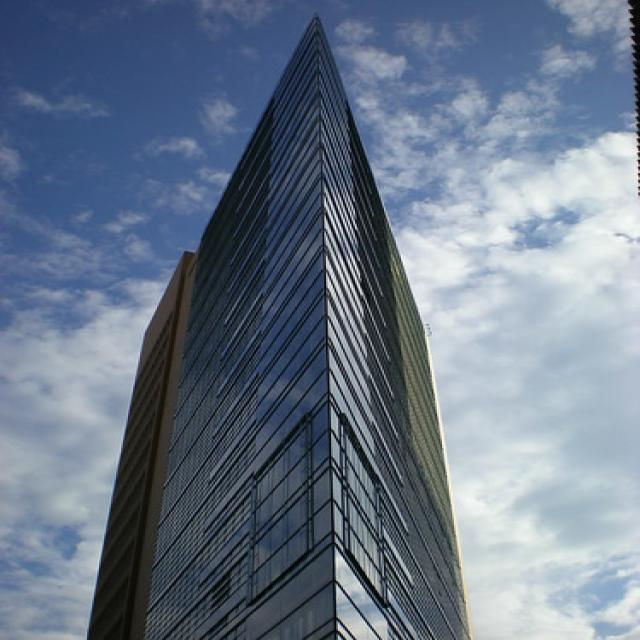Normal_building: (78, 13, 470, 640)
